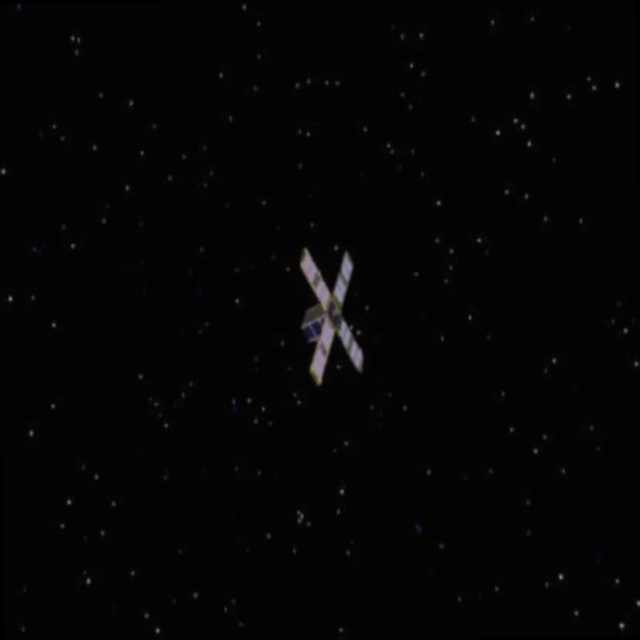satellite: (280, 250, 374, 387)
